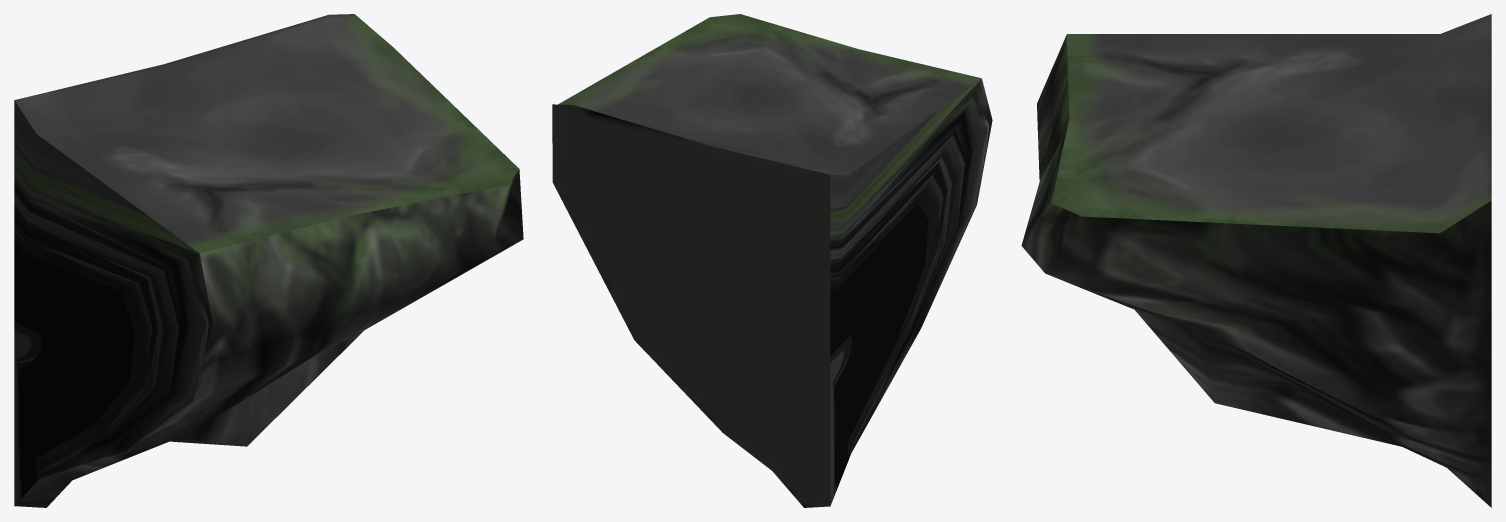
The model's file is cliff_right.FBX.
3 views of the same model, side by side, from view 1: azimuth 30°, elevation 25°; view 2: azimuth 150°, elevation 25°; view 3: azimuth 270°, elevation 25° (orthographic). The views are drawn at different scales.
Visible parts, largest first — view 1: cliff_right; view 2: cliff_right; view 3: cliff_right.
Part boxes in pixels (x1,y1,x2,y2): cliff_right: (14,14,523,507); cliff_right: (552,14,992,507); cliff_right: (1021,14,1491,507).
Bounding box in the file's own units: 22.99 × 26.16 × 22.93.
1 material, 1 textured.
